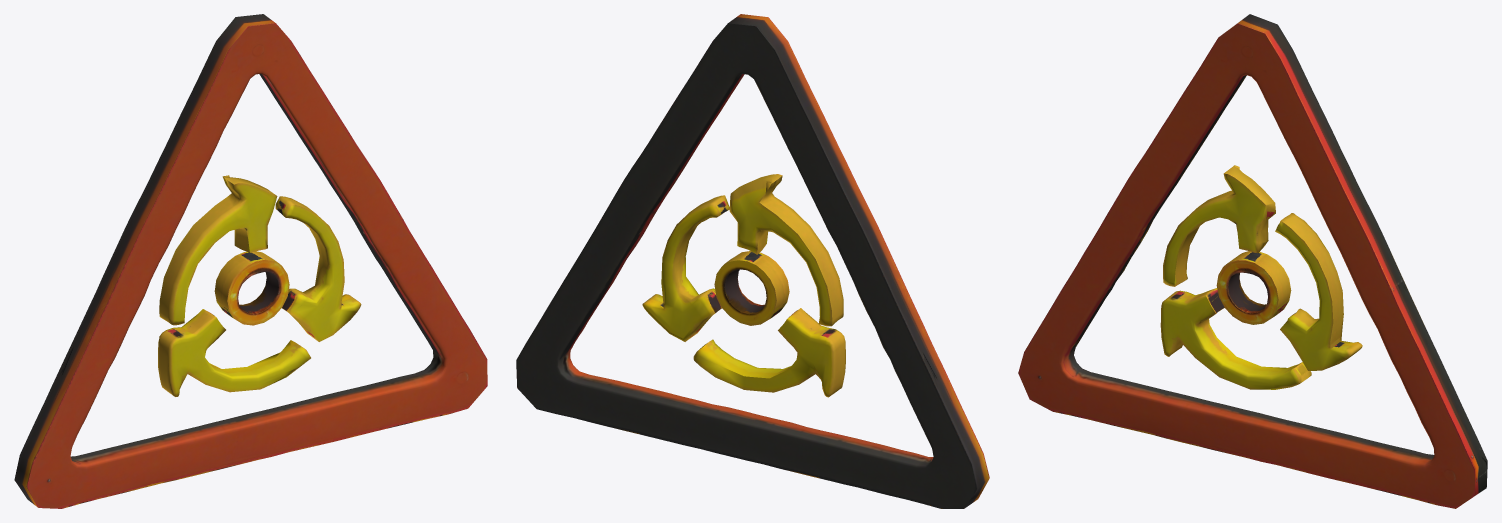
File: Neon_Hazard_Symbol_0926201300_texture.fbx
3 renders of one model, left to right at view 1: azimuth 30°, elevation 25°; view 2: azimuth 150°, elevation 25°; view 3: azimuth 330°, elevation 25°, orthographic.
Parts seen in each view (by area): view 1: Mesh0; view 2: Mesh0; view 3: Mesh0.
Part boxes in pixels (left/top/right/bottom): Mesh0: left=14, top=14, right=487, bottom=508; Mesh0: left=516, top=14, right=989, bottom=508; Mesh0: left=1018, top=14, right=1487, bottom=508.
Bounding box in the file's own units: 190 × 172 × 9.26.
1 material, 1 textured.
